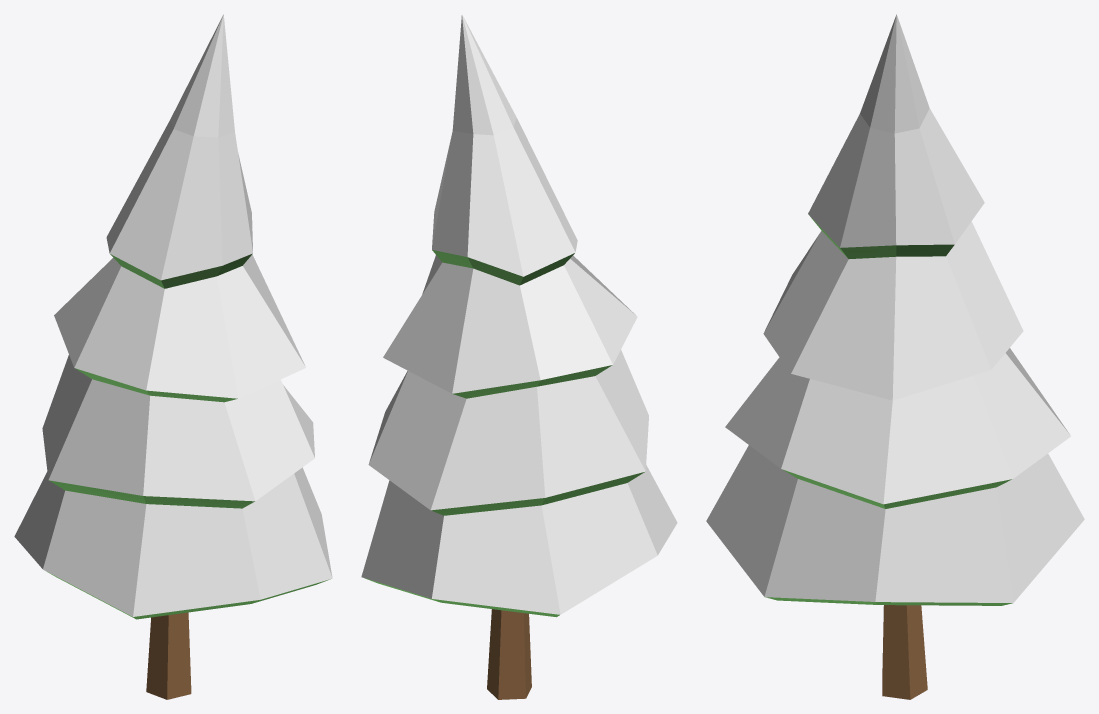
The model's file is Fir_Tree_m_Snow_06.fbx.
The picture shows the model from 3 angles, left to right: view 1: azimuth 30°, elevation 25°; view 2: azimuth 150°, elevation 25°; view 3: azimuth 270°, elevation 25°; orthographic projection. The views are drawn at different scales.
Parts seen in each view (by area): view 1: Fir_Tree_m_Snow_06; view 2: Fir_Tree_m_Snow_06; view 3: Fir_Tree_m_Snow_06.
Boxes of the visible parts, box(x1,y1,x2,y2) form: Fir_Tree_m_Snow_06: box(14, 14, 332, 699); Fir_Tree_m_Snow_06: box(361, 14, 677, 699); Fir_Tree_m_Snow_06: box(706, 14, 1084, 699).
Bounding box in the file's own units: 327 × 752 × 368.
